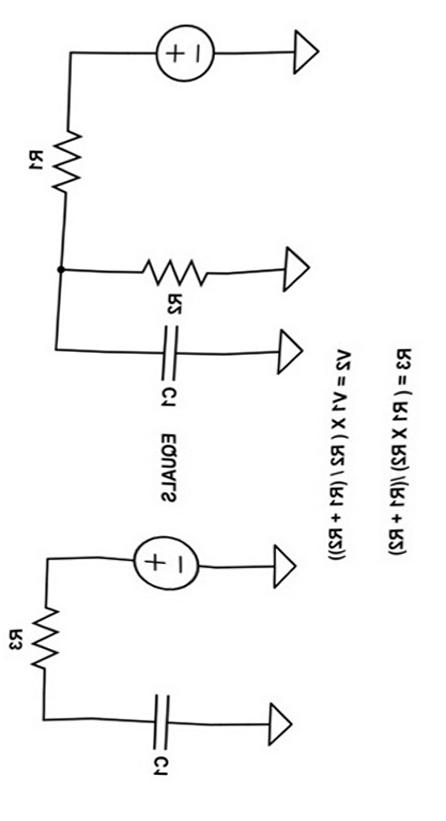Battery: (133, 4, 242, 91), (126, 506, 213, 593)
